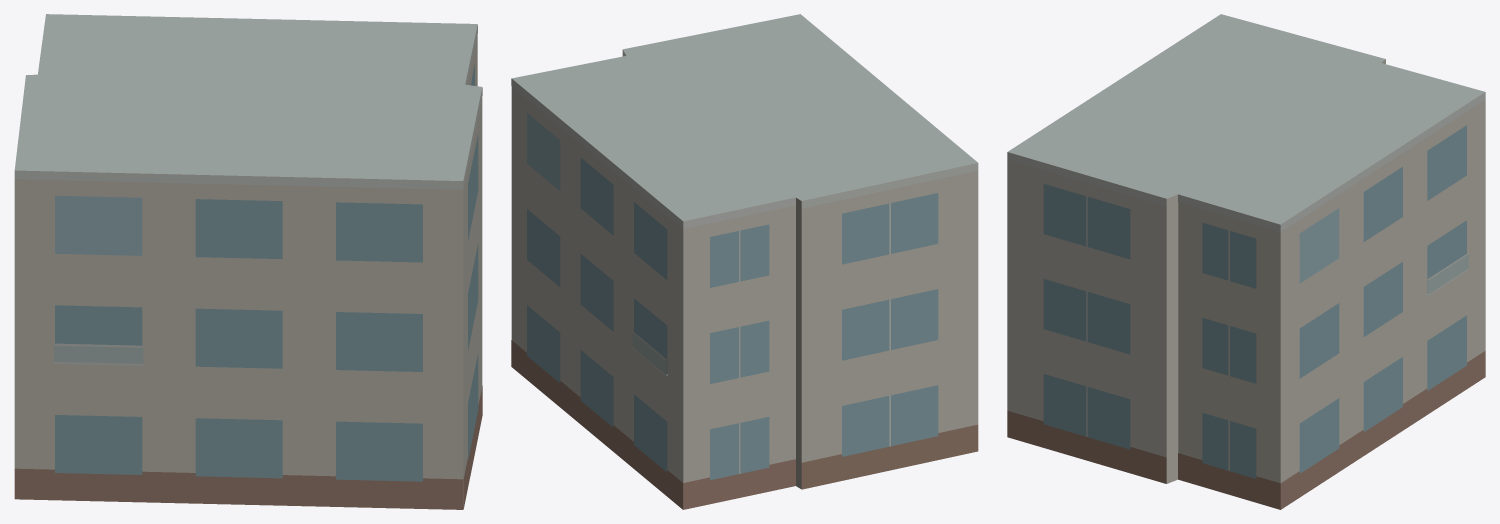
Rendered from survey-upis-33018823.glb.
The picture shows the model from 3 angles, left to right: view 1: azimuth 30°, elevation 25°; view 2: azimuth 150°, elevation 25°; view 3: azimuth 270°, elevation 25°; orthographic projection. The views are drawn at different scales.
Parts seen in each view (by area): view 1: survey-upis-33018823.tmp; view 2: survey-upis-33018823.tmp; view 3: survey-upis-33018823.tmp.
Boxes of the visible parts, bbox=[...] form: survey-upis-33018823.tmp: bbox=[14, 14, 482, 509]; survey-upis-33018823.tmp: bbox=[511, 14, 978, 509]; survey-upis-33018823.tmp: bbox=[1007, 14, 1485, 509].
Bounding box in the file's own units: 14.5 × 9.15 × 13.91.
